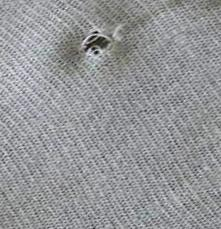hole: (76, 25, 118, 64)
